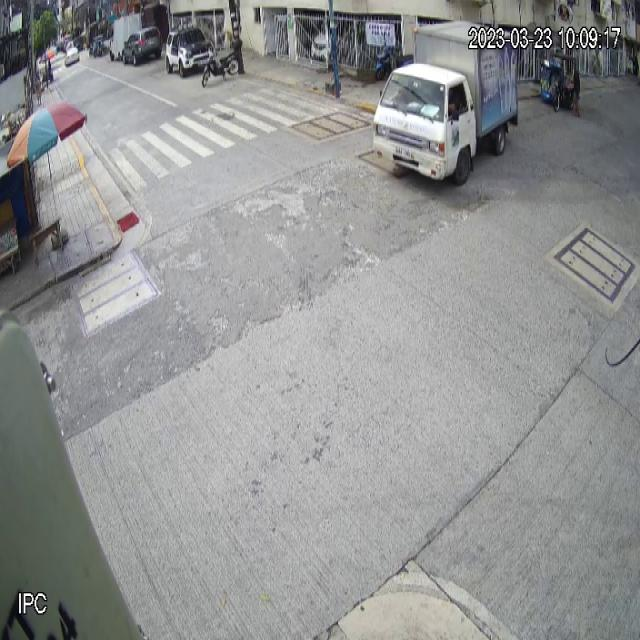Truck: (373, 19, 521, 186)
